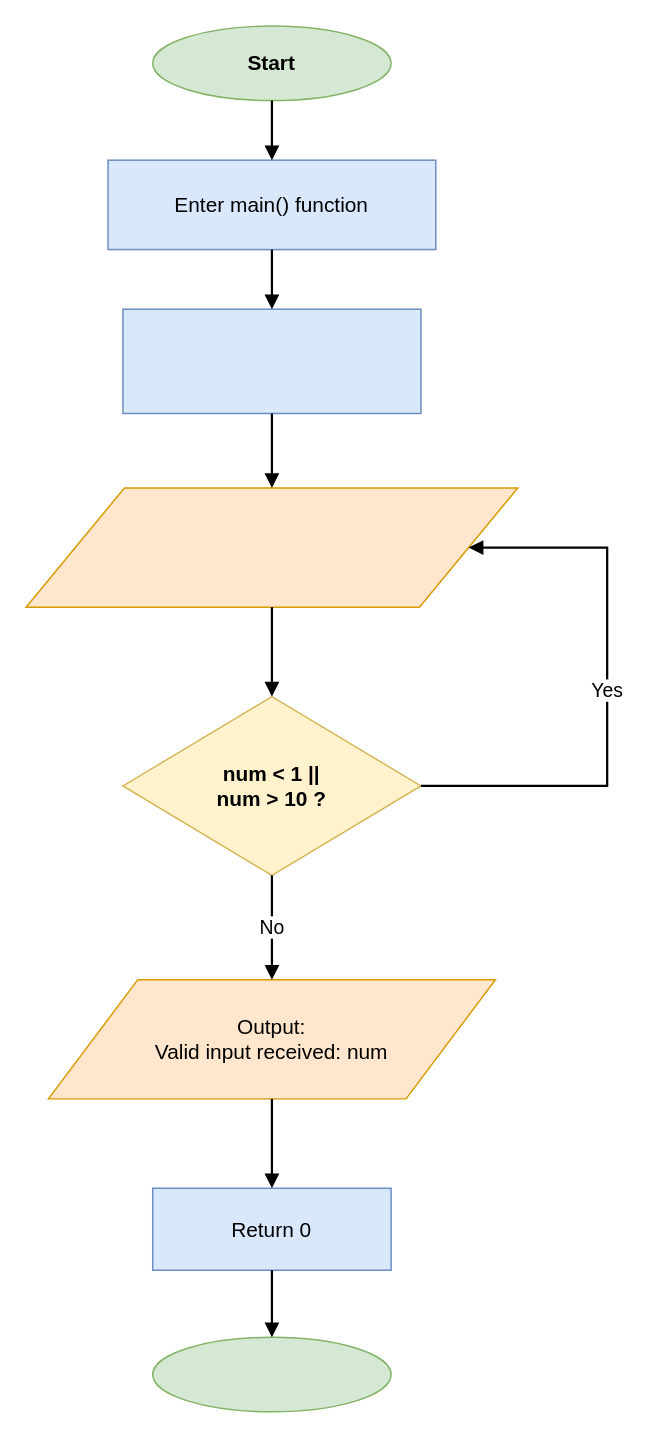
Some shapes in this 648 by 1438 pixel diagram are drawn without their labels. Each missing label, with the centre of its shape:
Declare variable: int num: point (271, 360)
End: point (271, 1374)
Output: Enter a number (1 - 10): Input: num: point (271, 546)
